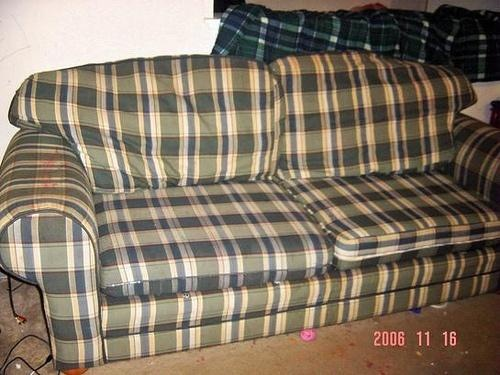sofa: (1, 54, 500, 375)
